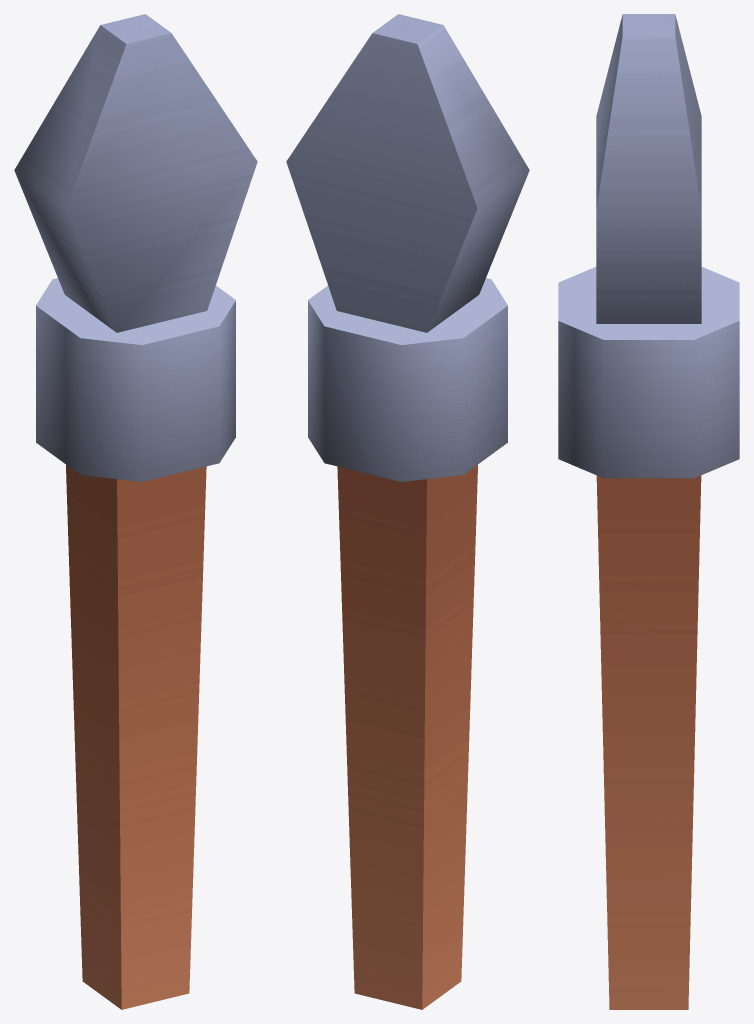
File: weapon-spear.glb
3 renders of one model, left to right at view 1: azimuth 30°, elevation 25°; view 2: azimuth 150°, elevation 25°; view 3: azimuth 270°, elevation 25°, orthographic.
Visible parts, largest first — view 1: weapon-spear; view 2: weapon-spear; view 3: weapon-spear.
Part boxes in pixels (x1=…): weapon-spear: x1=14, y1=14, x2=257, y2=1009; weapon-spear: x1=286, y1=14, x2=529, y2=1009; weapon-spear: x1=558, y1=14, x2=739, y2=1009.
Bounding box in the file's own units: 0.1463 × 0.7 × 0.119.
1 material, 1 textured.
